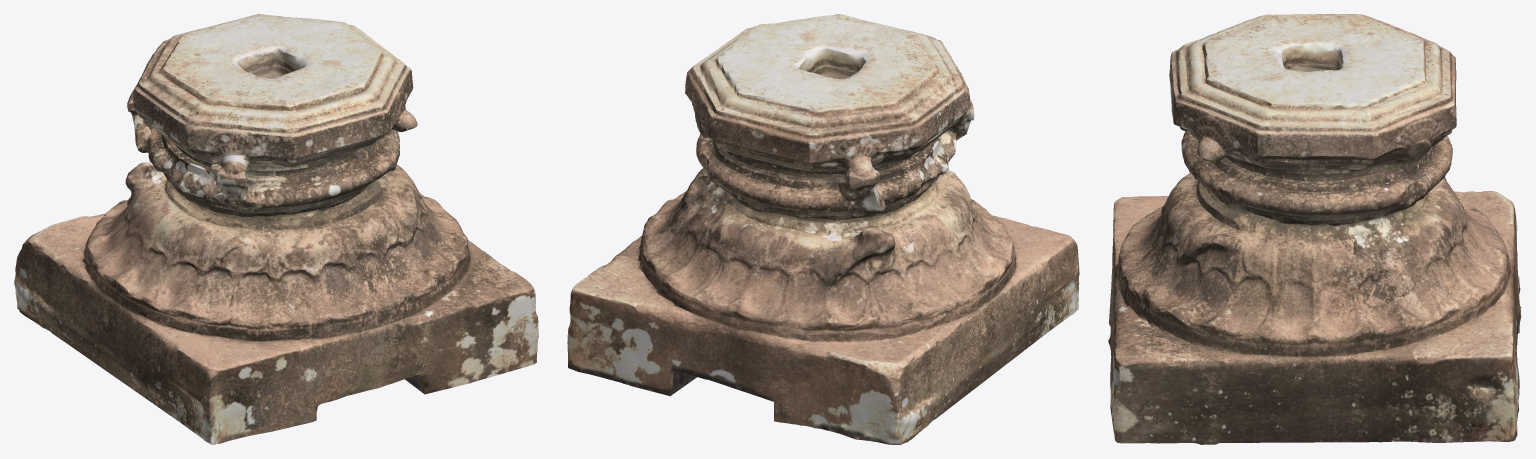
The model's file is 39_MysonSanctuaryB_Detru_final.glb.
3 renders of one model, left to right at view 1: azimuth 30°, elevation 25°; view 2: azimuth 150°, elevation 25°; view 3: azimuth 270°, elevation 25°, orthographic. The views are drawn at different scales.
Size of the model in its own units: 0.9593 by 0.749 by 0.9345.
Materials: 1 (1 with a texture image).
